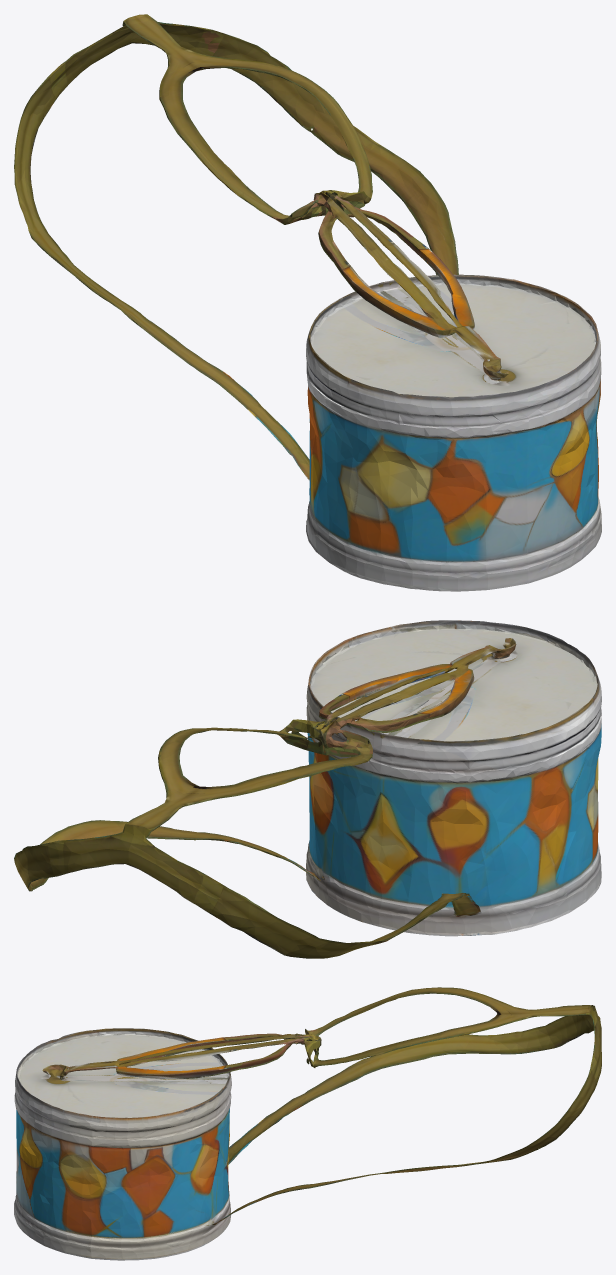
File: Drumbeat_Delight_0417160309_texture.fbx
3 views of the same model, one above another, from view 1: azimuth 30°, elevation 25°; view 2: azimuth 150°, elevation 25°; view 3: azimuth 270°, elevation 25° (orthographic). The views are drawn at different scales.
Visible parts, largest first — view 1: temp; view 2: temp; view 3: temp.
Part boxes in pixels (x1,y1,x2,y2): temp: (14, 14, 601, 591); temp: (14, 620, 601, 958); temp: (14, 987, 601, 1260).
Size of the model in its own units: 105 by 77.56 by 199.
1 material, 1 textured.
